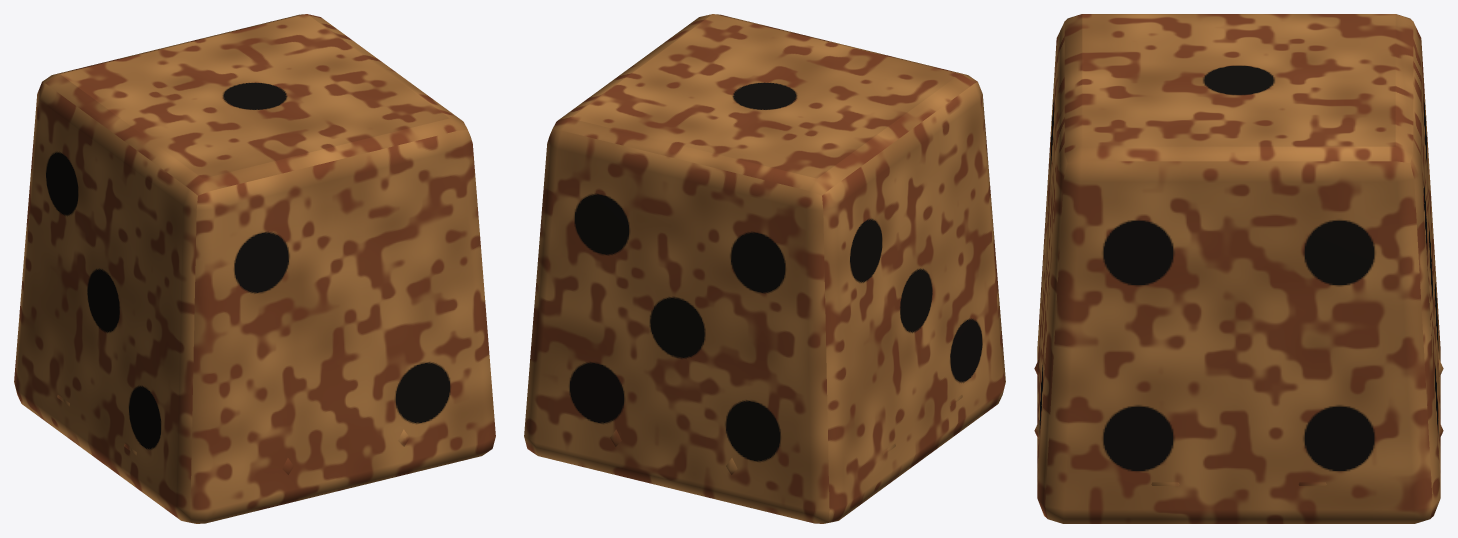
The model's file is Die_Sharper.fbx.
The picture shows the model from 3 angles, left to right: view 1: azimuth 30°, elevation 25°; view 2: azimuth 150°, elevation 25°; view 3: azimuth 270°, elevation 25°; orthographic projection. The views are drawn at different scales.
Parts seen in each view (by area): view 1: Die_Sharper; view 2: Die_Sharper; view 3: Die_Sharper.
Boxes of the visible parts, x1,y1,x2,y2 form: Die_Sharper: [14, 14, 495, 523]; Die_Sharper: [524, 14, 1005, 523]; Die_Sharper: [1034, 14, 1443, 523].
Bounding box in the file's own units: 0.2958 × 0.298 × 0.3.
1 material, 1 textured.
